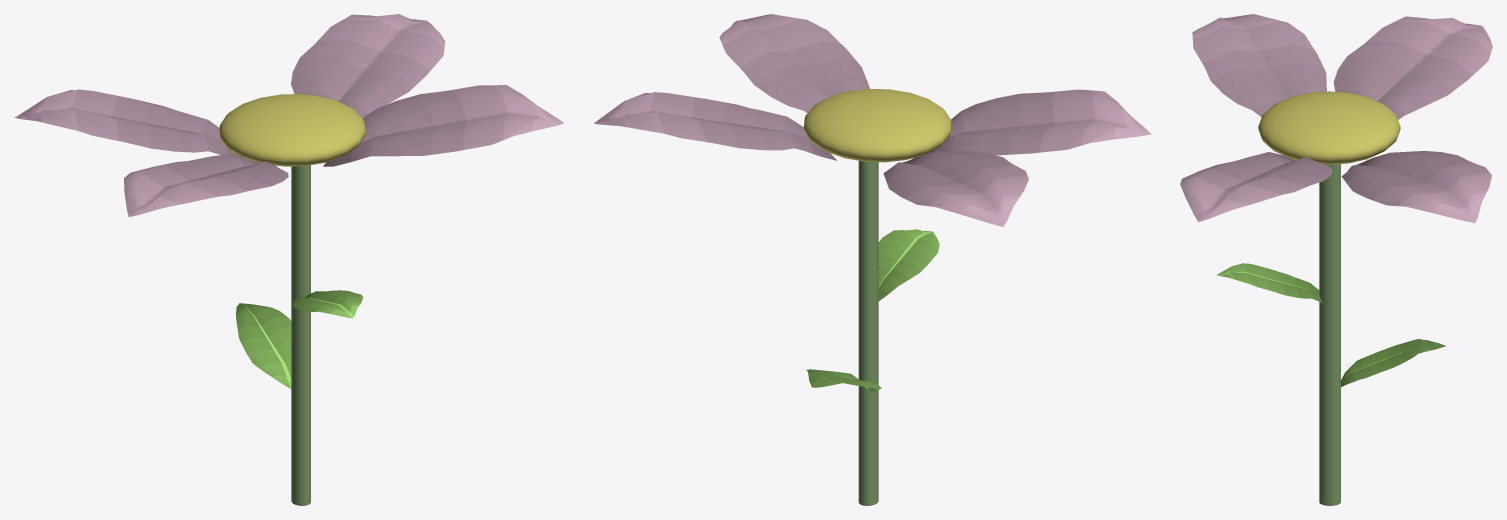
Rendered from pink4flowers.fbx.
3 views of the same model, side by side, from view 1: azimuth 30°, elevation 25°; view 2: azimuth 150°, elevation 25°; view 3: azimuth 270°, elevation 25° (orthographic). The views are drawn at different scales.
Visible parts, largest first — view 1: pasted__pasted__pasted__polySurface1, pasted__pasted__pasted__pasted__pasted__polySurface1, pSphere1, pasted__pCylinder1, polySurface1, pasted__polySurface1; view 2: pasted__pasted__pasted__pasted__pasted__polySurface1, pasted__pasted__pasted__polySurface1, pSphere1, pasted__pCylinder1, pasted__polySurface1, polySurface1; view 3: pasted__pasted__pasted__pasted__pasted__polySurface1, pasted__pasted__pasted__polySurface1, pSphere1, pasted__pCylinder1, pasted__polySurface1, polySurface1.
Boxes of the visible parts, box(x1,y1,x2,y2) form: pasted__pasted__pasted__polySurface1: box(15, 85, 564, 166); pasted__pasted__pasted__pasted__pasted__polySurface1: box(124, 14, 445, 216); pSphere1: box(219, 94, 365, 166); pasted__pCylinder1: box(291, 165, 310, 505); polySurface1: box(236, 303, 291, 388); pasted__polySurface1: box(291, 290, 363, 318); pasted__pasted__pasted__pasted__pasted__polySurface1: box(593, 89, 1151, 160); pasted__pasted__pasted__polySurface1: box(719, 14, 1028, 226); pSphere1: box(803, 89, 951, 162); pasted__pCylinder1: box(858, 160, 878, 505); pasted__polySurface1: box(878, 229, 939, 301); polySurface1: box(806, 369, 881, 392); pasted__pasted__pasted__pasted__pasted__polySurface1: box(1192, 14, 1492, 222); pasted__pasted__pasted__polySurface1: box(1180, 16, 1492, 221); pSphere1: box(1258, 91, 1400, 164); pasted__pCylinder1: box(1319, 164, 1340, 505); pasted__polySurface1: box(1216, 263, 1322, 303); polySurface1: box(1341, 339, 1445, 386).
Size of the model in its own units: 0.6459 by 0.5783 by 0.4156.
